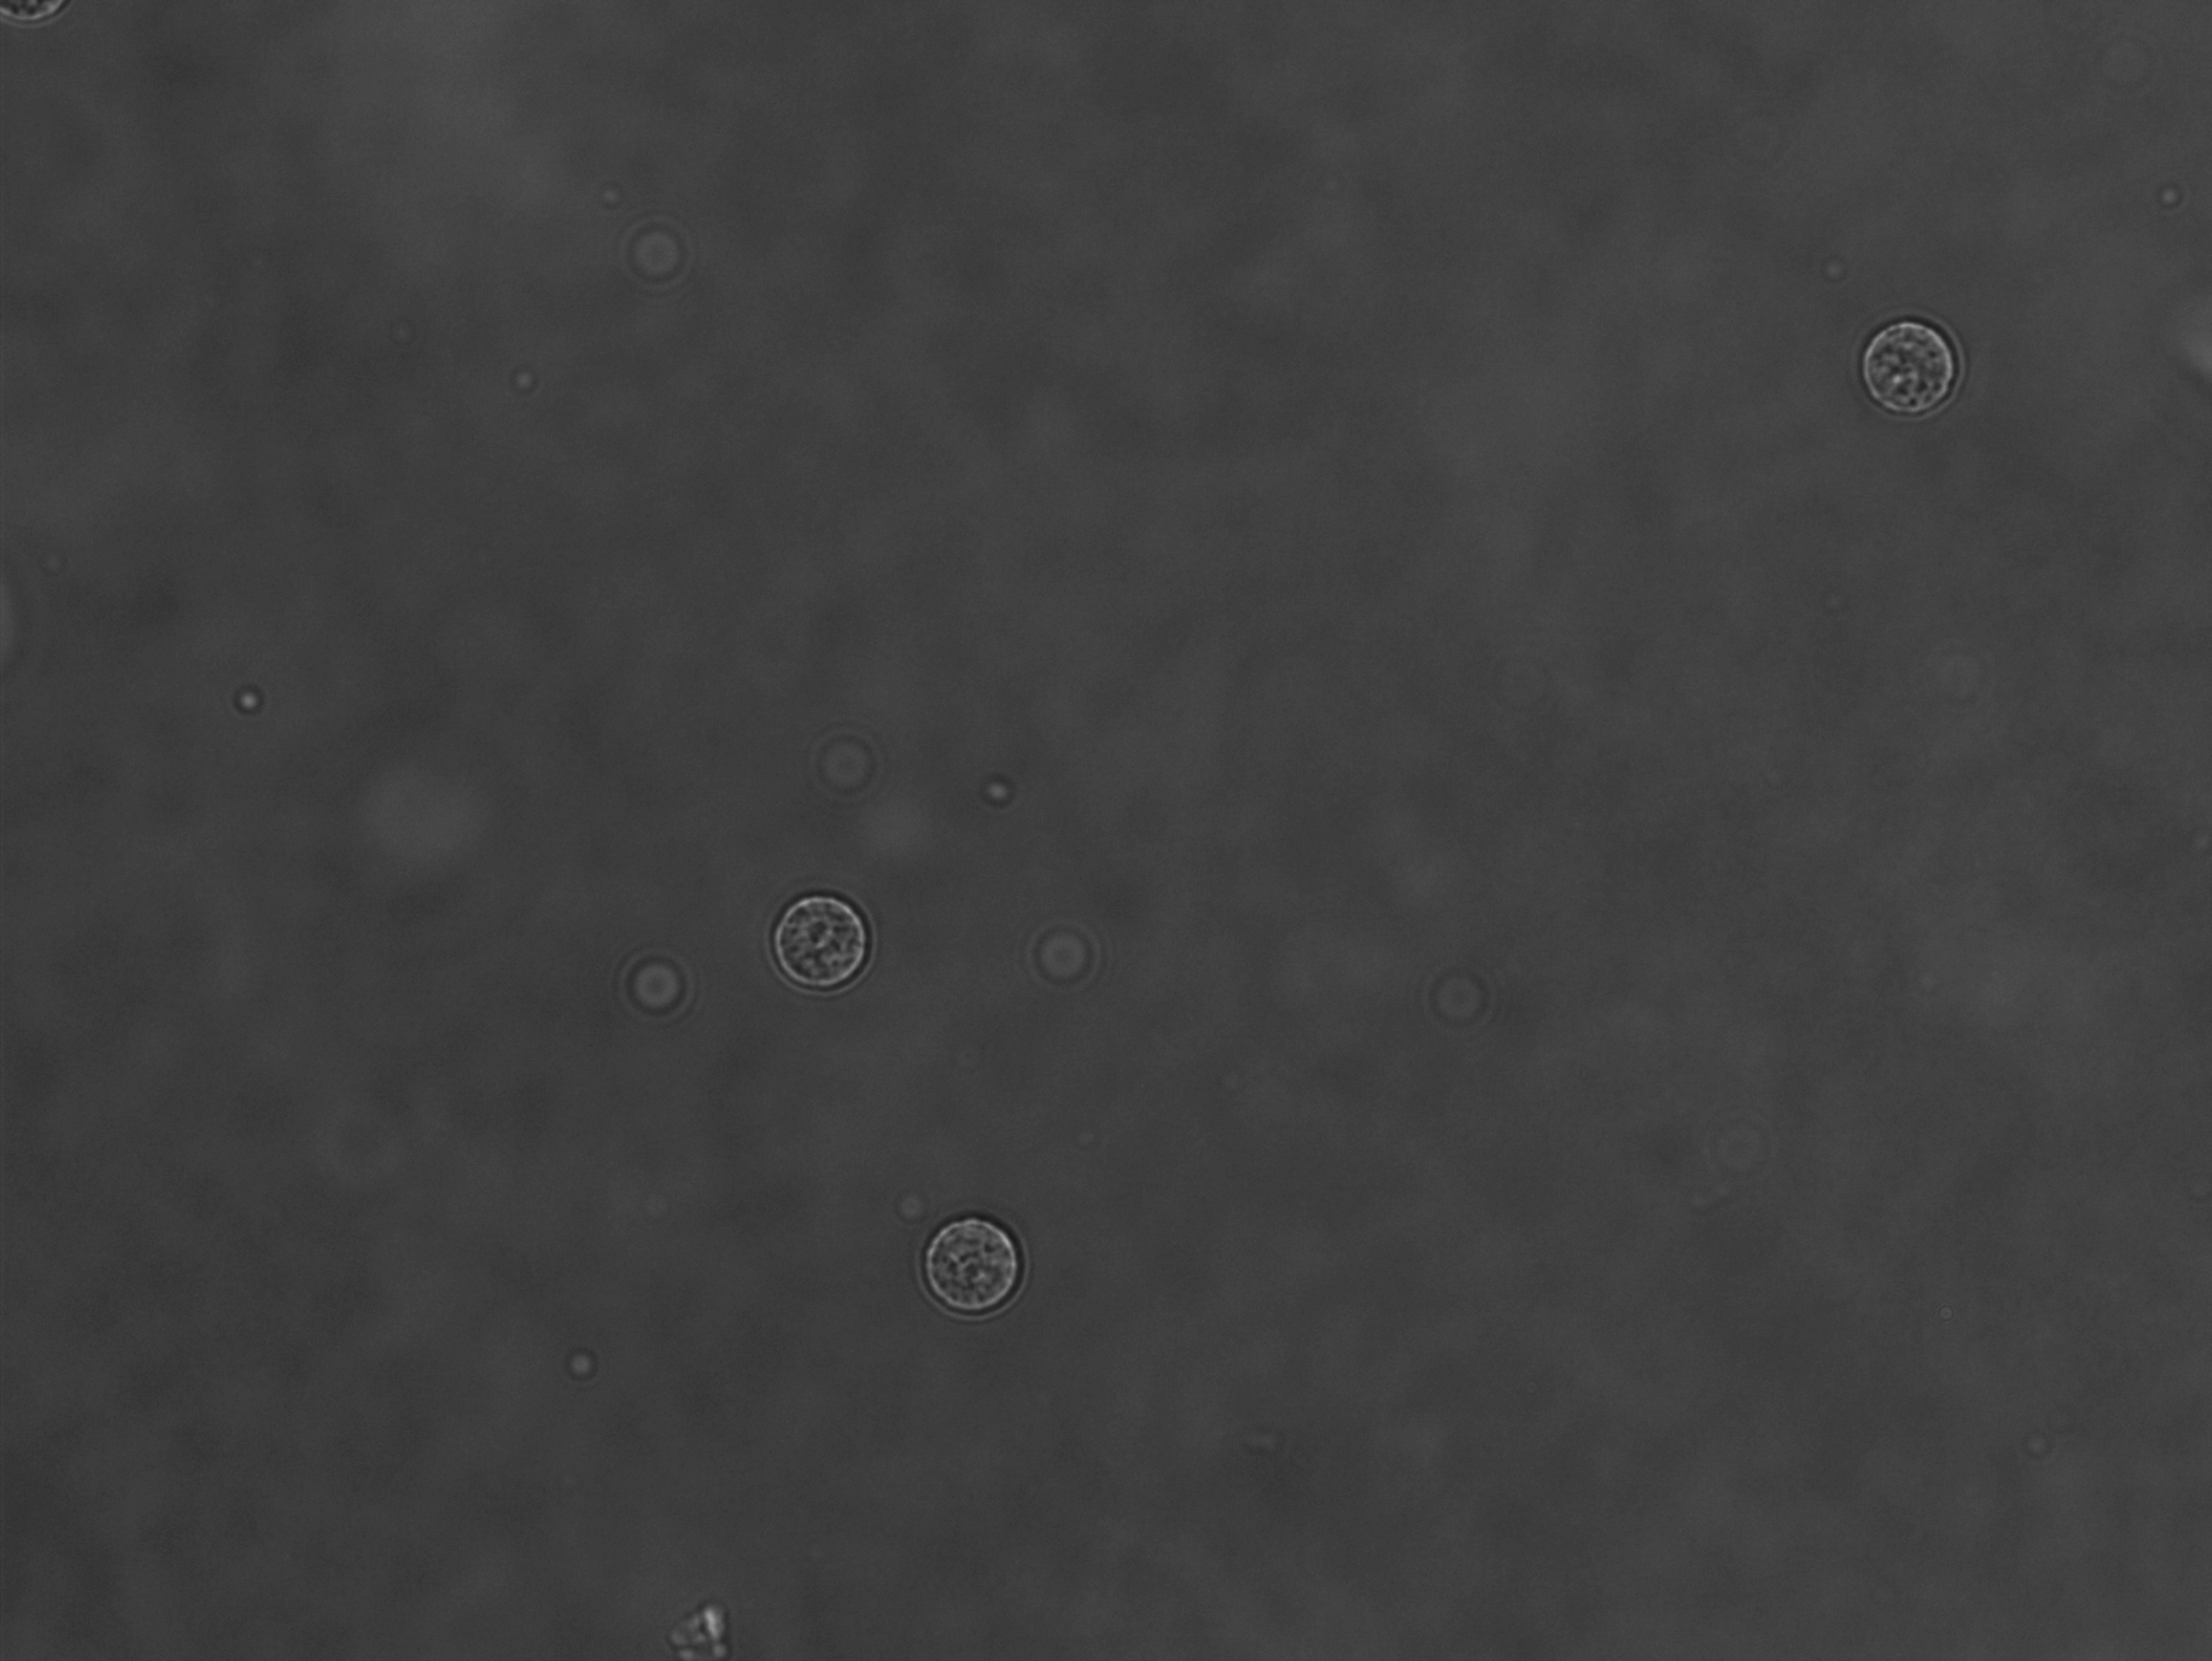depth:0: (907, 1192, 1073, 1349), (745, 872, 897, 1008), (1847, 309, 1980, 440)
